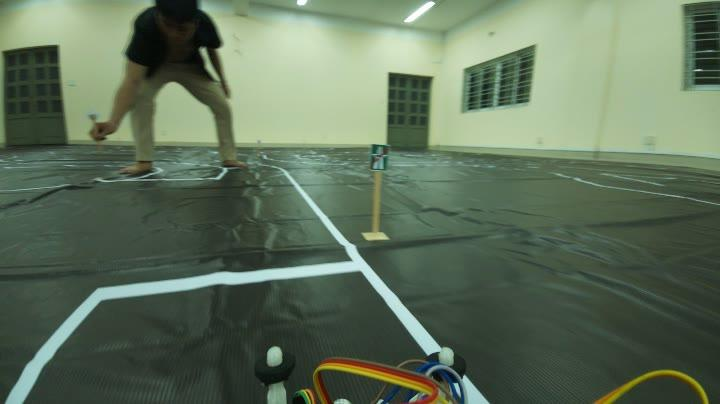highway_exit: (366, 140, 396, 179)
